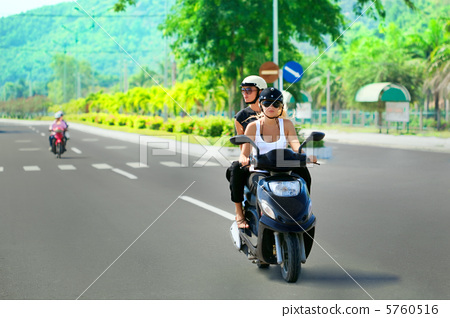helmet: (237, 74, 268, 95), (259, 86, 282, 106)
